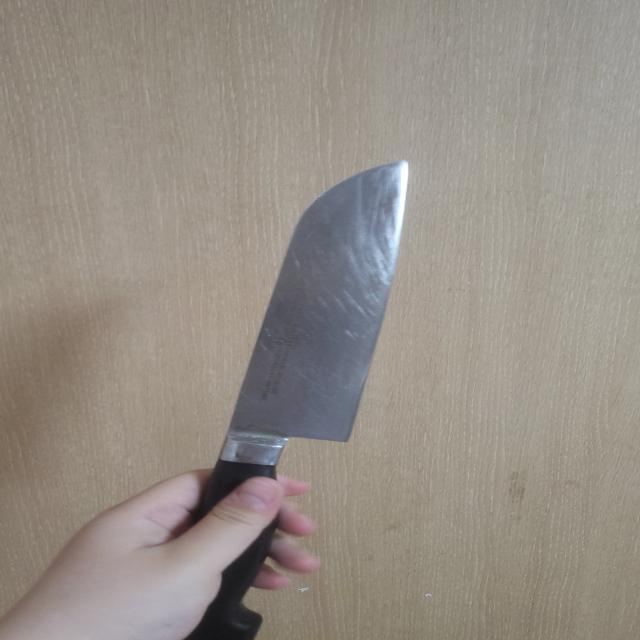knife: (168, 159, 409, 640)
